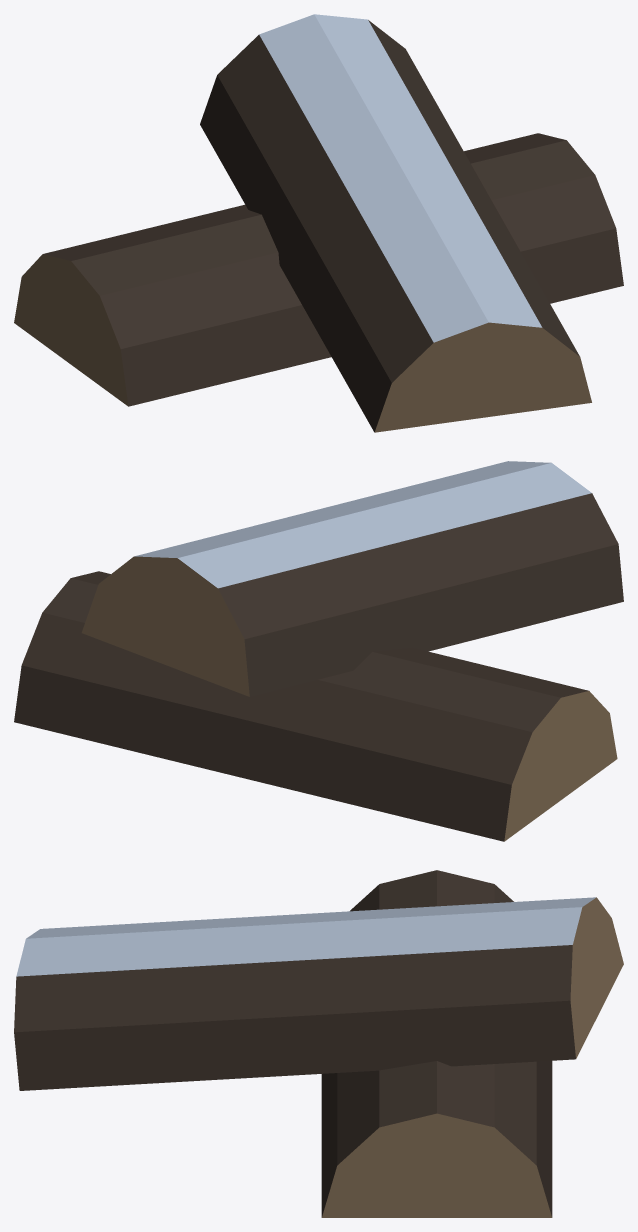
The model's file is firewood.glb.
The picture shows the model from 3 angles, top to bottom: view 1: azimuth 30°, elevation 25°; view 2: azimuth 150°, elevation 25°; view 3: azimuth 270°, elevation 25°; orthographic projection.
Visible parts, largest first — view 1: Firewood; view 2: Firewood; view 3: Firewood.
Boxes of the visible parts, left/top/right/bottom form: Firewood: left=14, top=14, right=623, bottom=432; Firewood: left=14, top=461, right=623, bottom=841; Firewood: left=14, top=870, right=623, bottom=1217.
Size of the model in its own units: 0.5 by 0.2129 by 0.5295.
